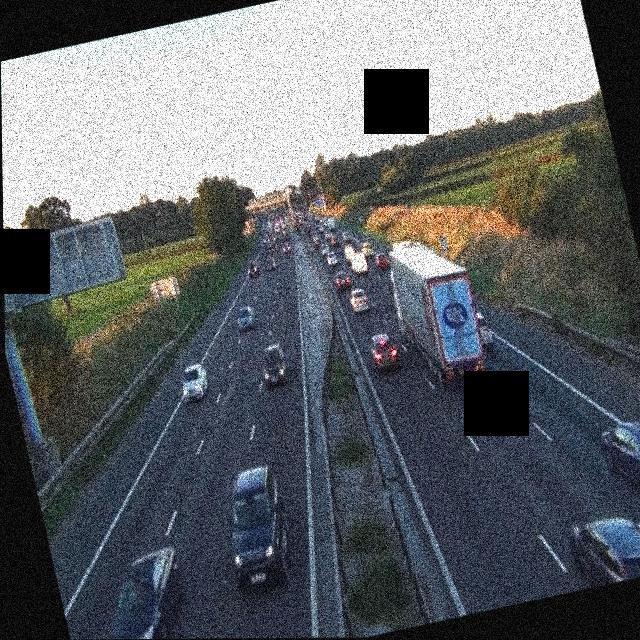car: (213, 462, 301, 593), (92, 547, 198, 639), (567, 504, 640, 589), (598, 412, 640, 513), (257, 342, 292, 387), (177, 361, 213, 402), (365, 329, 401, 370), (473, 310, 493, 348), (233, 302, 257, 331), (348, 288, 372, 314), (334, 268, 352, 291), (373, 250, 391, 271), (324, 250, 340, 268), (360, 241, 374, 259), (246, 260, 259, 278), (264, 256, 278, 272), (315, 238, 326, 252), (281, 240, 291, 252), (261, 242, 271, 254)
truck: (380, 230, 493, 393), (347, 239, 369, 273)
